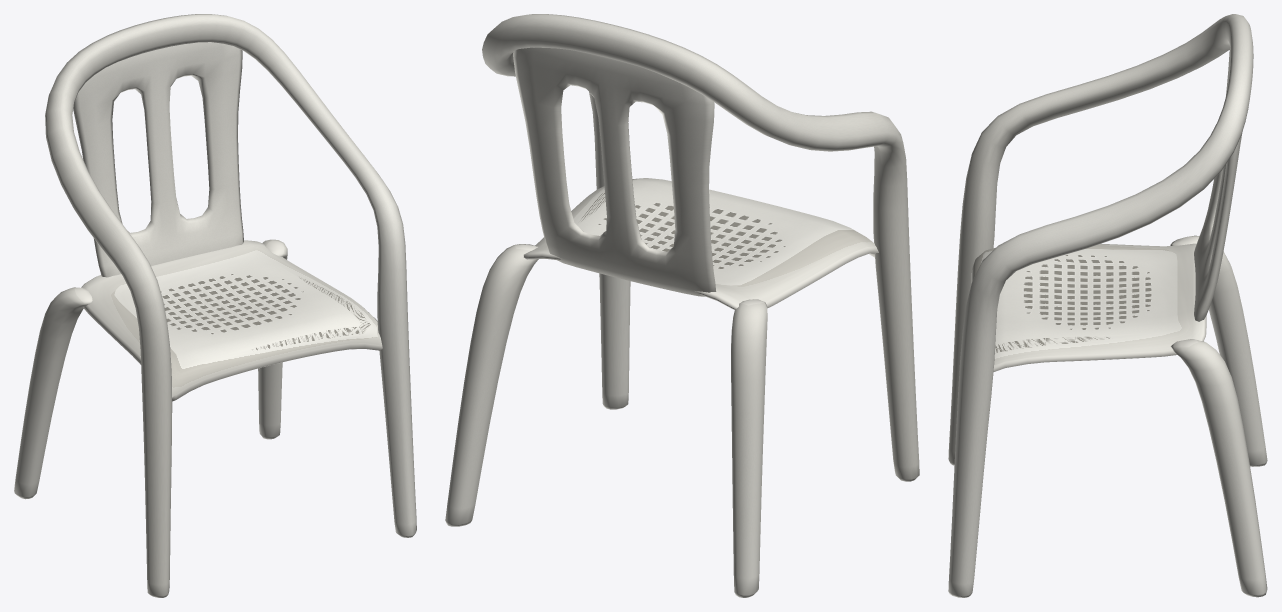
File: 01-silla-rimax.fbx
3 views of the same model, side by side, from view 1: azimuth 30°, elevation 25°; view 2: azimuth 150°, elevation 25°; view 3: azimuth 270°, elevation 25° (orthographic). The views are drawn at different scales.
Parts seen in each view (by area): view 1: Chair_OuterFrame, Chair_SeatPan, Chair_Backrest, Chair_RearLegs; view 2: Chair_OuterFrame, Chair_Backrest, Chair_RearLegs, Chair_SeatPan; view 3: Chair_OuterFrame, Chair_SeatPan, Chair_RearLegs, Chair_Backrest.
Boxes of the visible parts, x1,y1,x2,y2 form: Chair_OuterFrame: (45,14,416,597); Chair_SeatPan: (81,240,382,401); Chair_Backrest: (73,42,243,277); Chair_RearLegs: (14,239,287,499); Chair_OuterFrame: (482,14,919,481); Chair_Backrest: (513,47,716,296); Chair_RearLegs: (445,244,767,597); Chair_SeatPan: (523,178,878,309); Chair_OuterFrame: (948,14,1253,597); Chair_SeatPan: (971,243,1206,372); Chair_RearLegs: (1170,235,1267,597); Chair_Backrest: (1194,47,1242,321).
Size of the model in its own units: 0.5513 by 0.8508 by 0.5047.
Materials: 1 (1 with a texture image).
